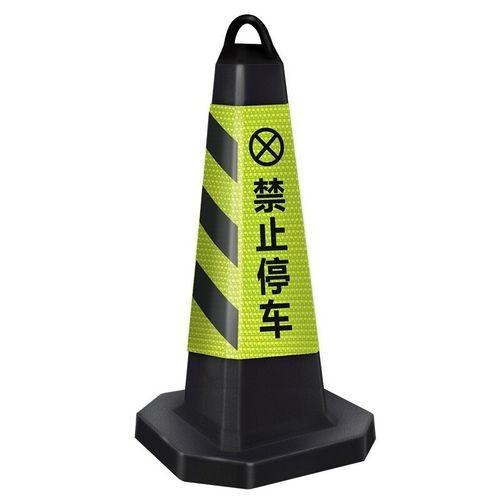cone_barrel: (151, 14, 357, 470)
